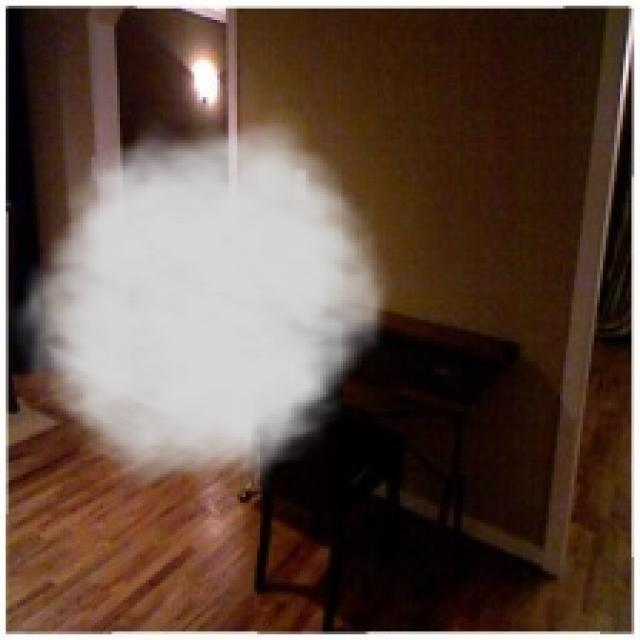smoke: (6, 106, 403, 491)
